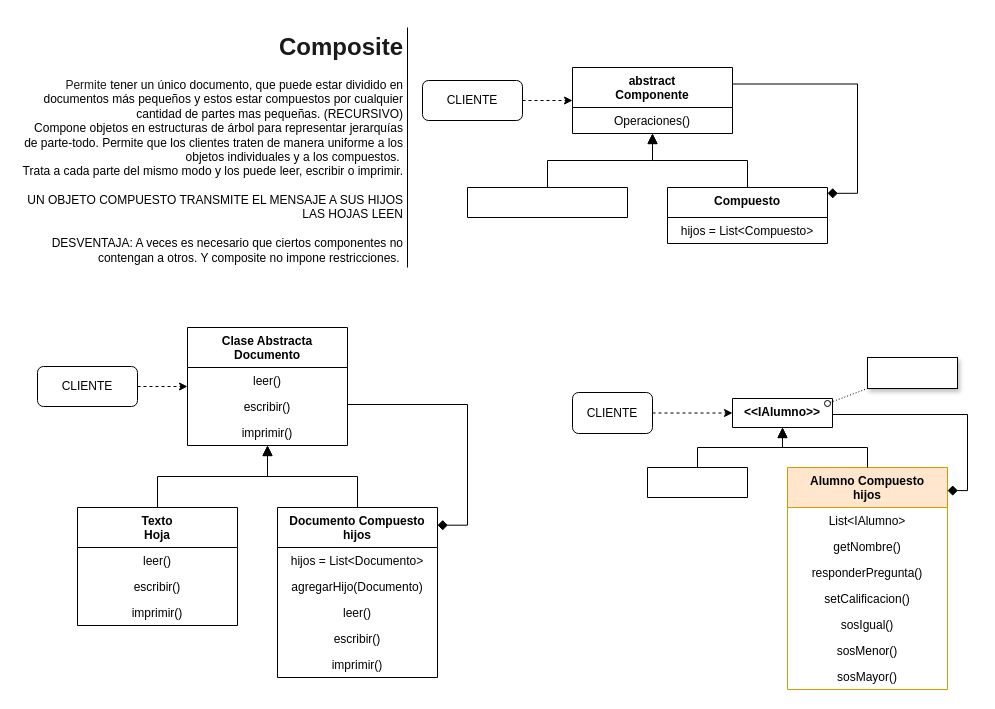
Some shapes in this 995 by 709 pixel diagram are drawn without their labels. Each missing label, with the centre of its shape:
"abstract class" goes at pixel 913 374.
"Alumno" goes at pixel 697 482.
"Hoja" goes at pixel 547 202.
